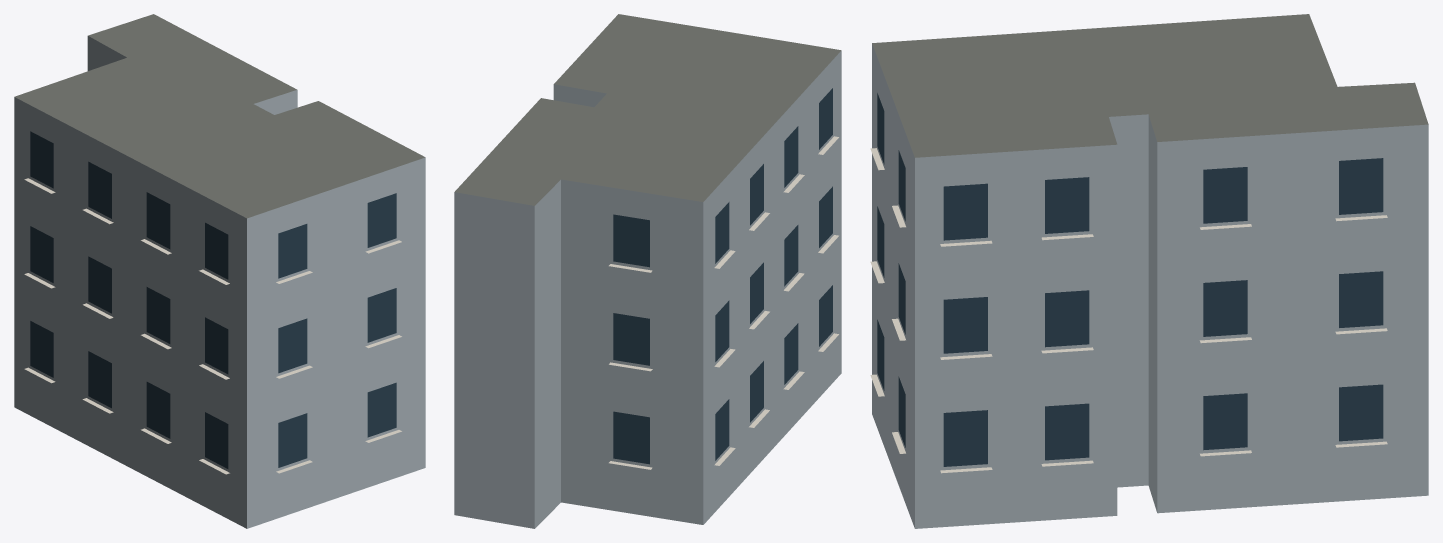
3 views of the same model, side by side, from view 1: azimuth 30°, elevation 25°; view 2: azimuth 150°, elevation 25°; view 3: azimuth 270°, elevation 25° (orthographic). The views are drawn at different scales.
Visible parts, largest first — view 1: Footprint 0, Inferred window bays, Window sills; view 2: Footprint 0, Inferred window bays, Window sills; view 3: Footprint 0, Inferred window bays, Window sills.
Part boxes in pixels (box(x1,y1,x2,y2)): Footprint 0: box(14, 14, 425, 528); Inferred window bays: box(30, 131, 396, 468); Window sills: box(24, 178, 401, 474); Footprint 0: box(454, 14, 841, 528); Inferred window bays: box(613, 88, 832, 464); Window sills: box(609, 136, 838, 469); Footprint 0: box(872, 14, 1428, 528); Inferred window bays: box(877, 93, 1383, 466); Window sills: box(870, 148, 1387, 473).
Bounding box in the file's own units: 9.65 × 11.33 × 15.45.
